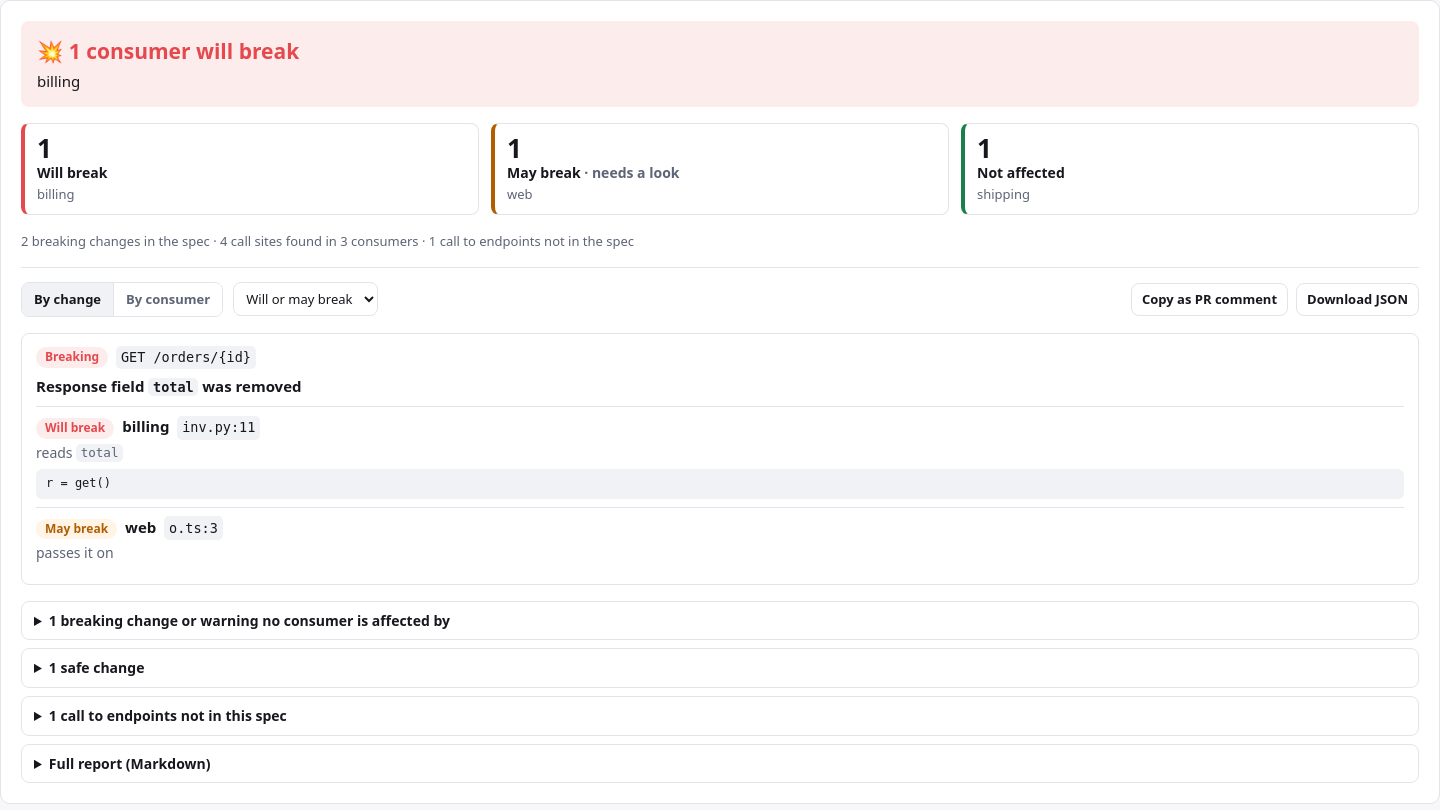
Results › hides unaffected consumers by default and can show everything
The image size is (1440, 810).
Expected: the text "s.py:7" is not shown
Select "Everything" in the dropdown named "Show". click: (306, 299)
box: [233,282,378,316]
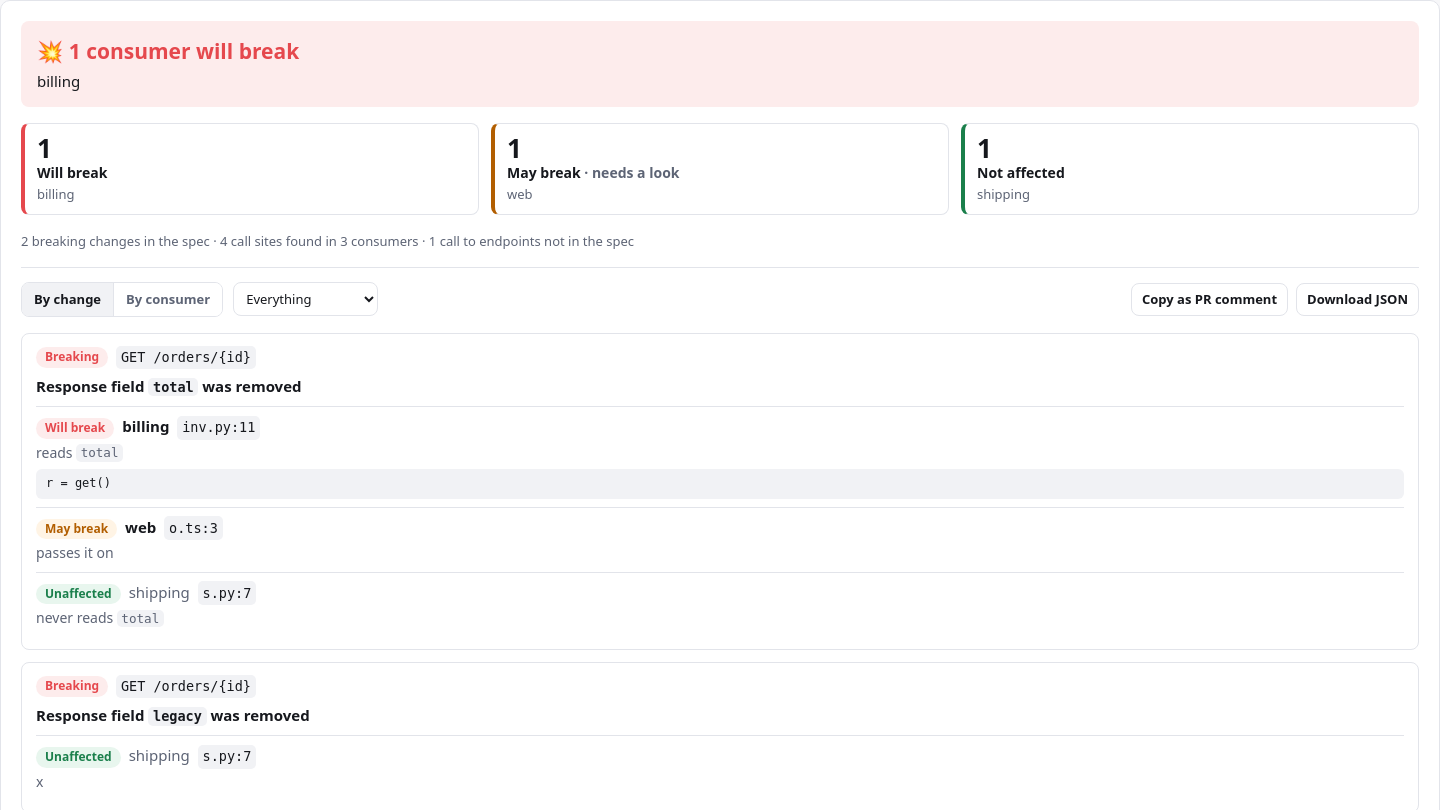
Result: the text "s.py:7" below "passes it on" is shown at [202,585,251,601]
